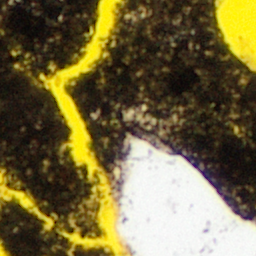air_pores: (215, 0, 255, 71)
cement_matrix: (69, 0, 255, 225), (0, 0, 110, 255), (126, 110, 149, 124), (42, 216, 54, 228)
cracks: (41, 0, 134, 255), (0, 170, 37, 211), (0, 243, 9, 255)
gravel_crushed_stones: (115, 141, 255, 255), (127, 111, 148, 123), (43, 217, 53, 227)
